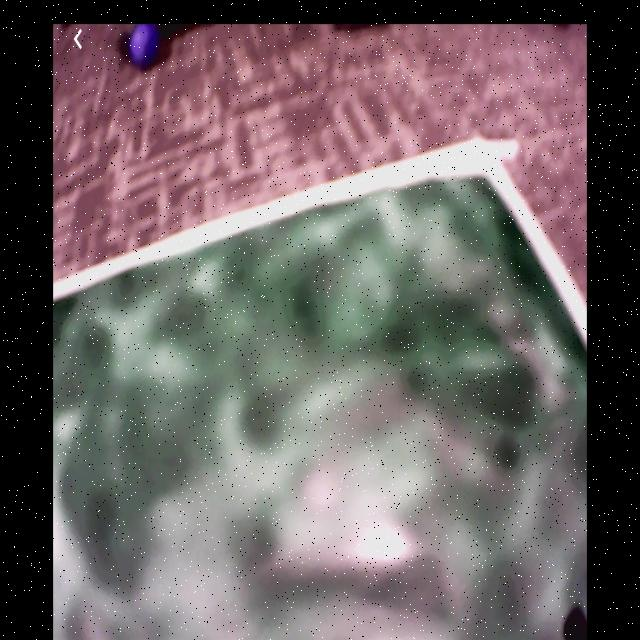ball: (129, 28, 158, 72)
